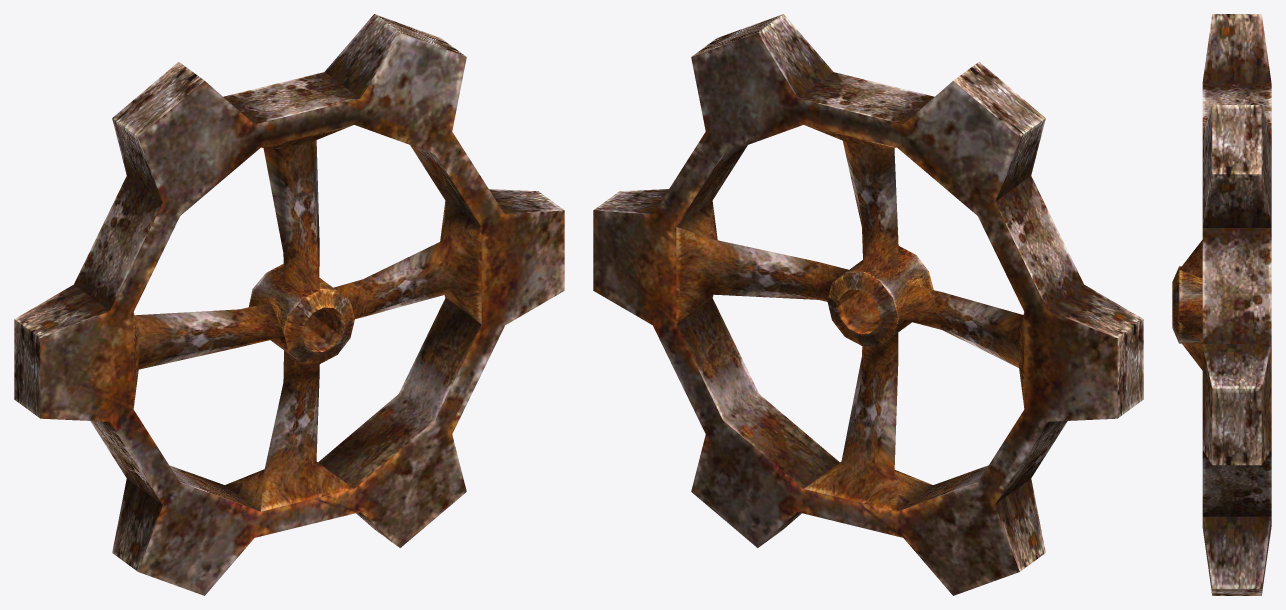
The model's file is elevator_cogwheel03.dae.
3 views of the same model, side by side, from view 1: azimuth 30°, elevation 25°; view 2: azimuth 150°, elevation 25°; view 3: azimuth 270°, elevation 25° (orthographic). The views are drawn at different scales.
Visible parts, largest first — view 1: elevator_cogwheel03; view 2: elevator_cogwheel03; view 3: elevator_cogwheel03.
Boxes of the visible parts, left/top/right/bottom form: elevator_cogwheel03: left=14, top=14, right=564, bottom=595; elevator_cogwheel03: left=593, top=14, right=1143, bottom=595; elevator_cogwheel03: left=1172, top=14, right=1271, bottom=595.
Bounding box in the file's own units: 1.11 × 1.04 × 0.1904.
